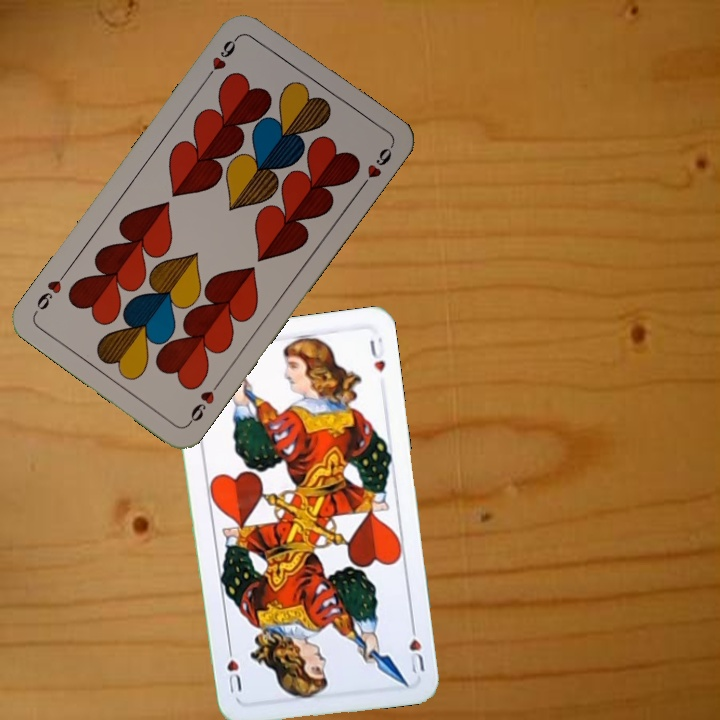H9: (183, 377, 224, 428), (202, 31, 242, 82)
HU: (405, 618, 427, 676)
